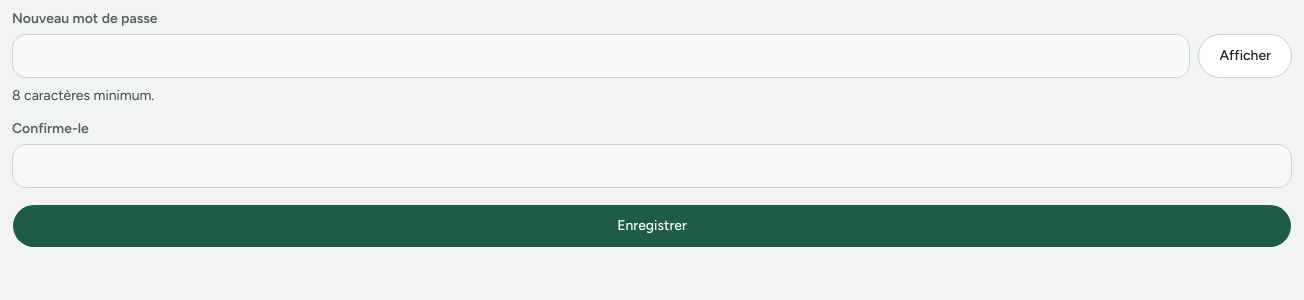
NewPasswordForm › shows the generic error when the action throws
Type "long-enough-password" into the password field labelled "Nouveau mot de passe" at (601, 56), box [12, 34, 1190, 78]
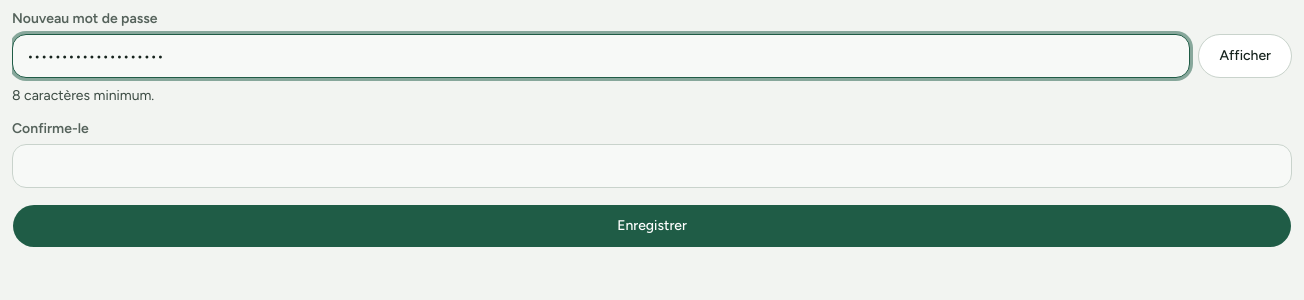
Type "long-enough-password" into the password field labelled "Confirme-le" at (652, 166), box [12, 144, 1292, 188]
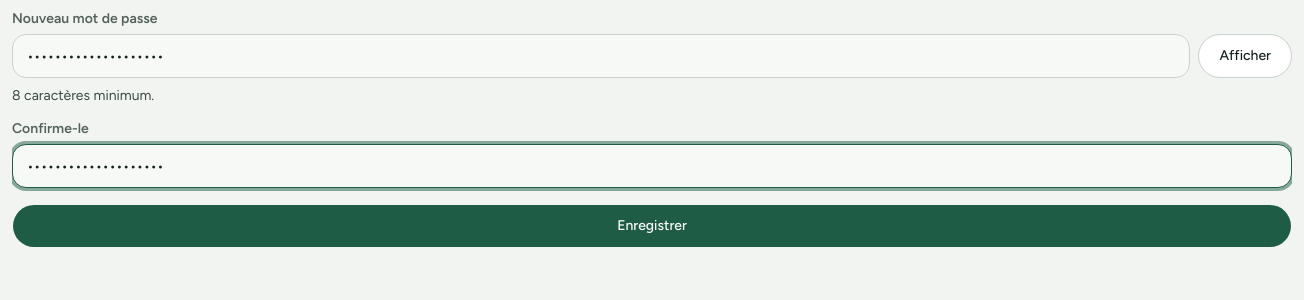
Click the button "Enregistrer" at (652, 226), box [12, 204, 1292, 248]
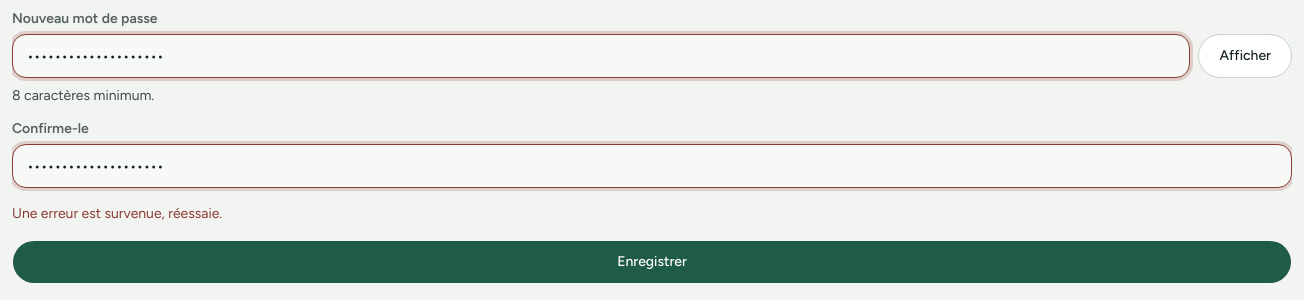
expect the message "Une erreur est survenue, réessaie." is shown: met, box [12, 205, 222, 222]
